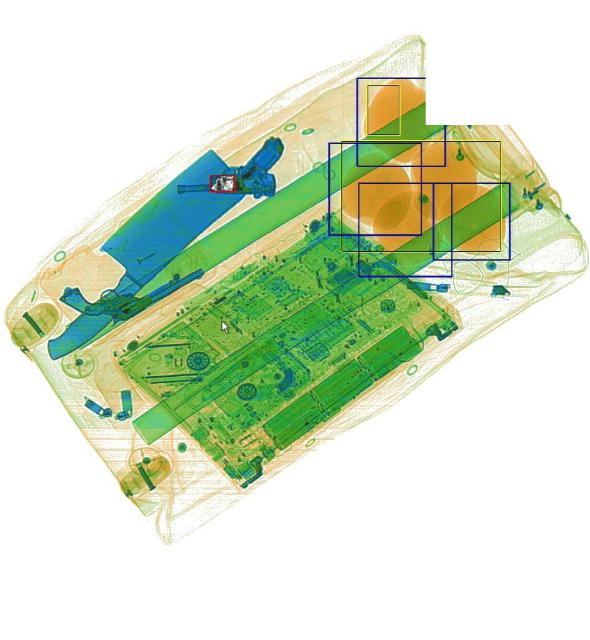Gun: (51, 224, 206, 344), (176, 134, 284, 198)
Knife: (14, 144, 252, 366)
